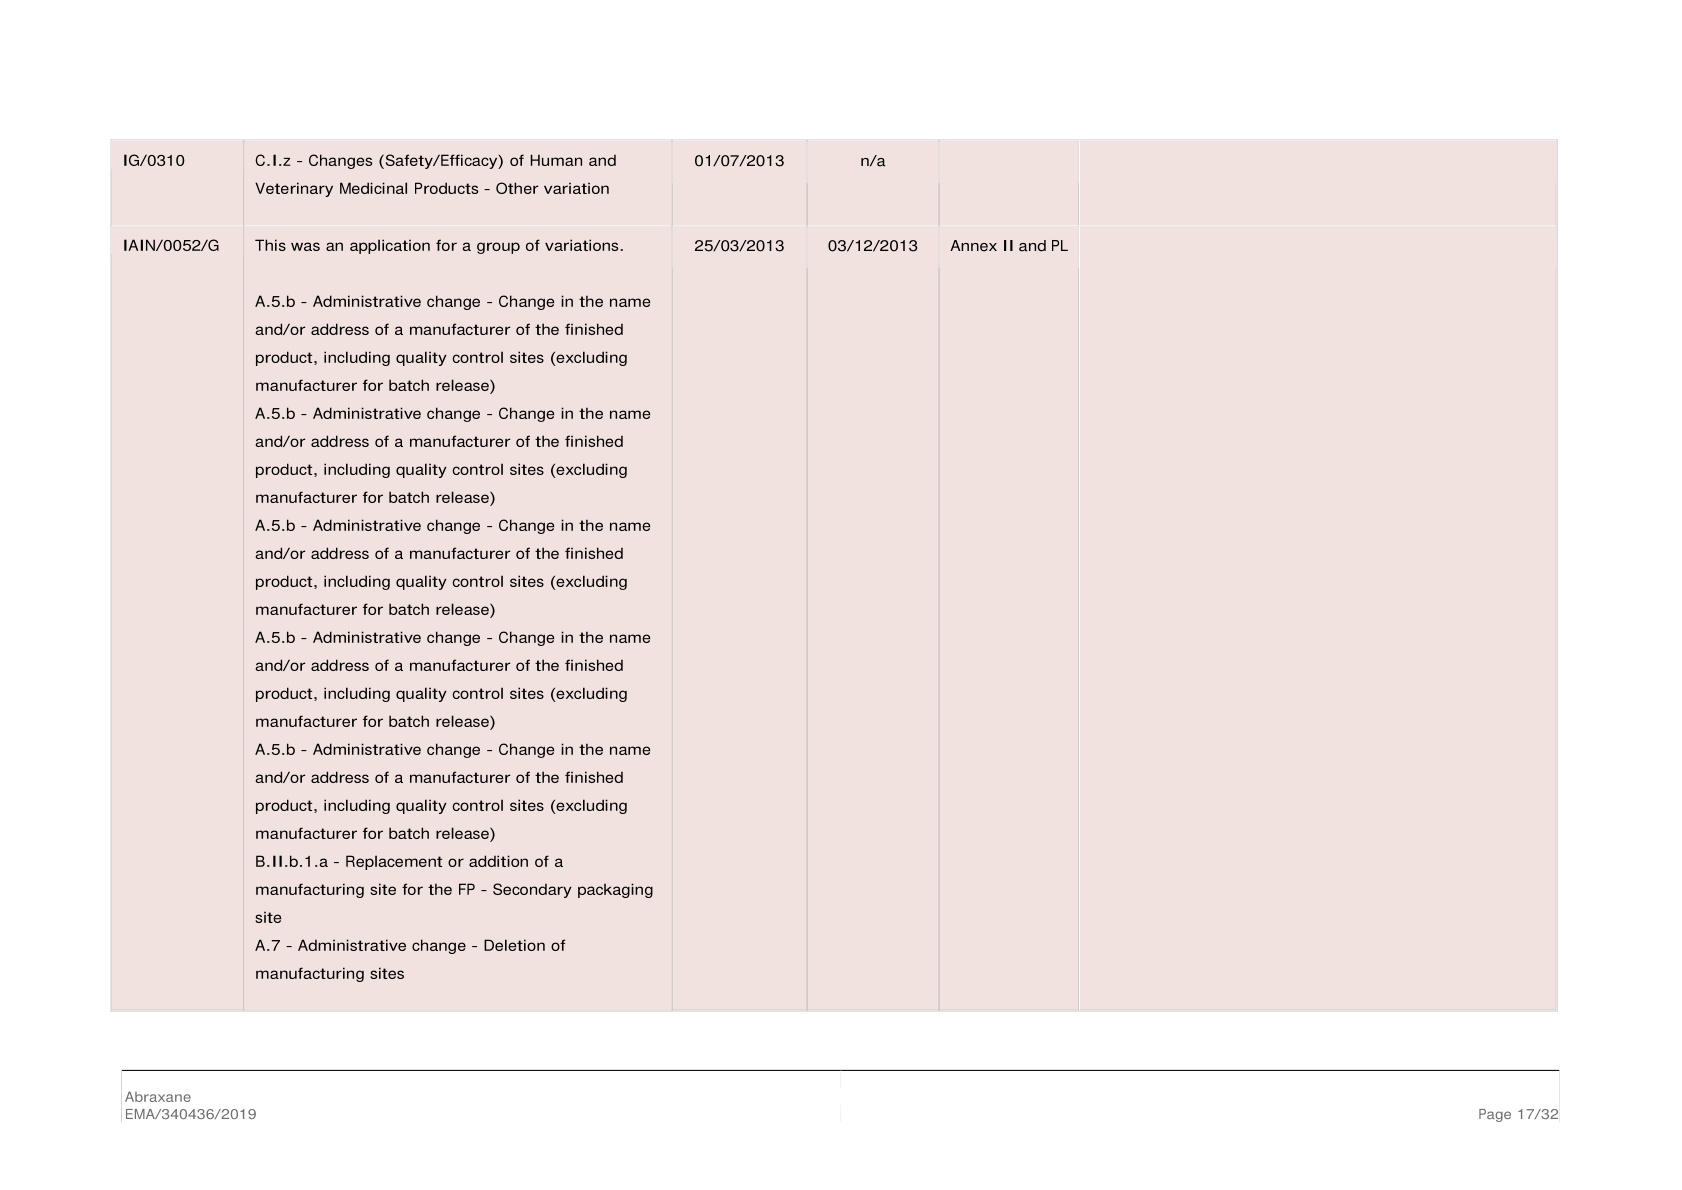full_lined: (109, 138, 1558, 1012)
